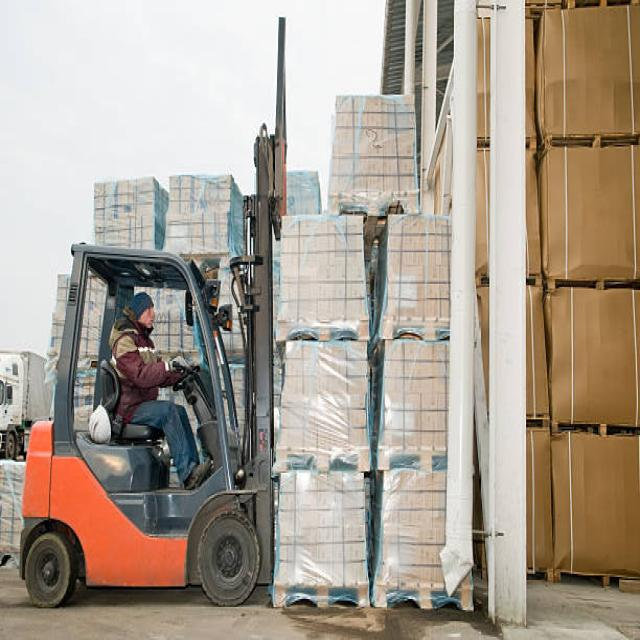Wooden-Pallets: (277, 579, 368, 613), (279, 446, 371, 476), (380, 585, 474, 613)
